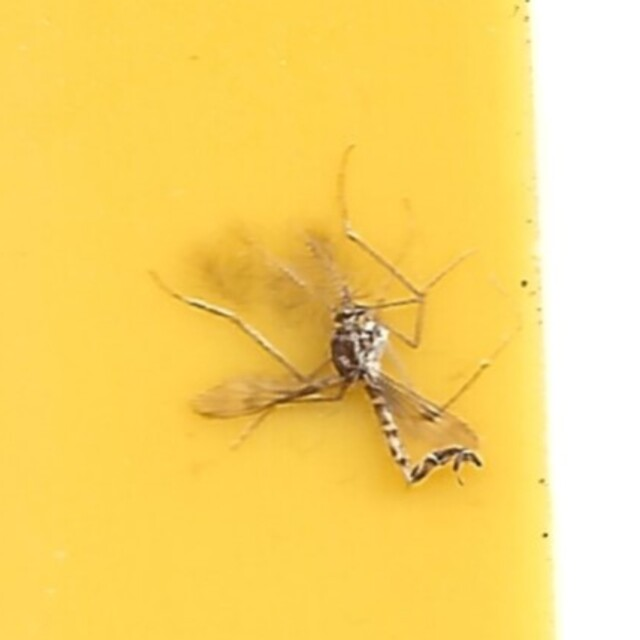Nematocera: (150, 143, 490, 497)
